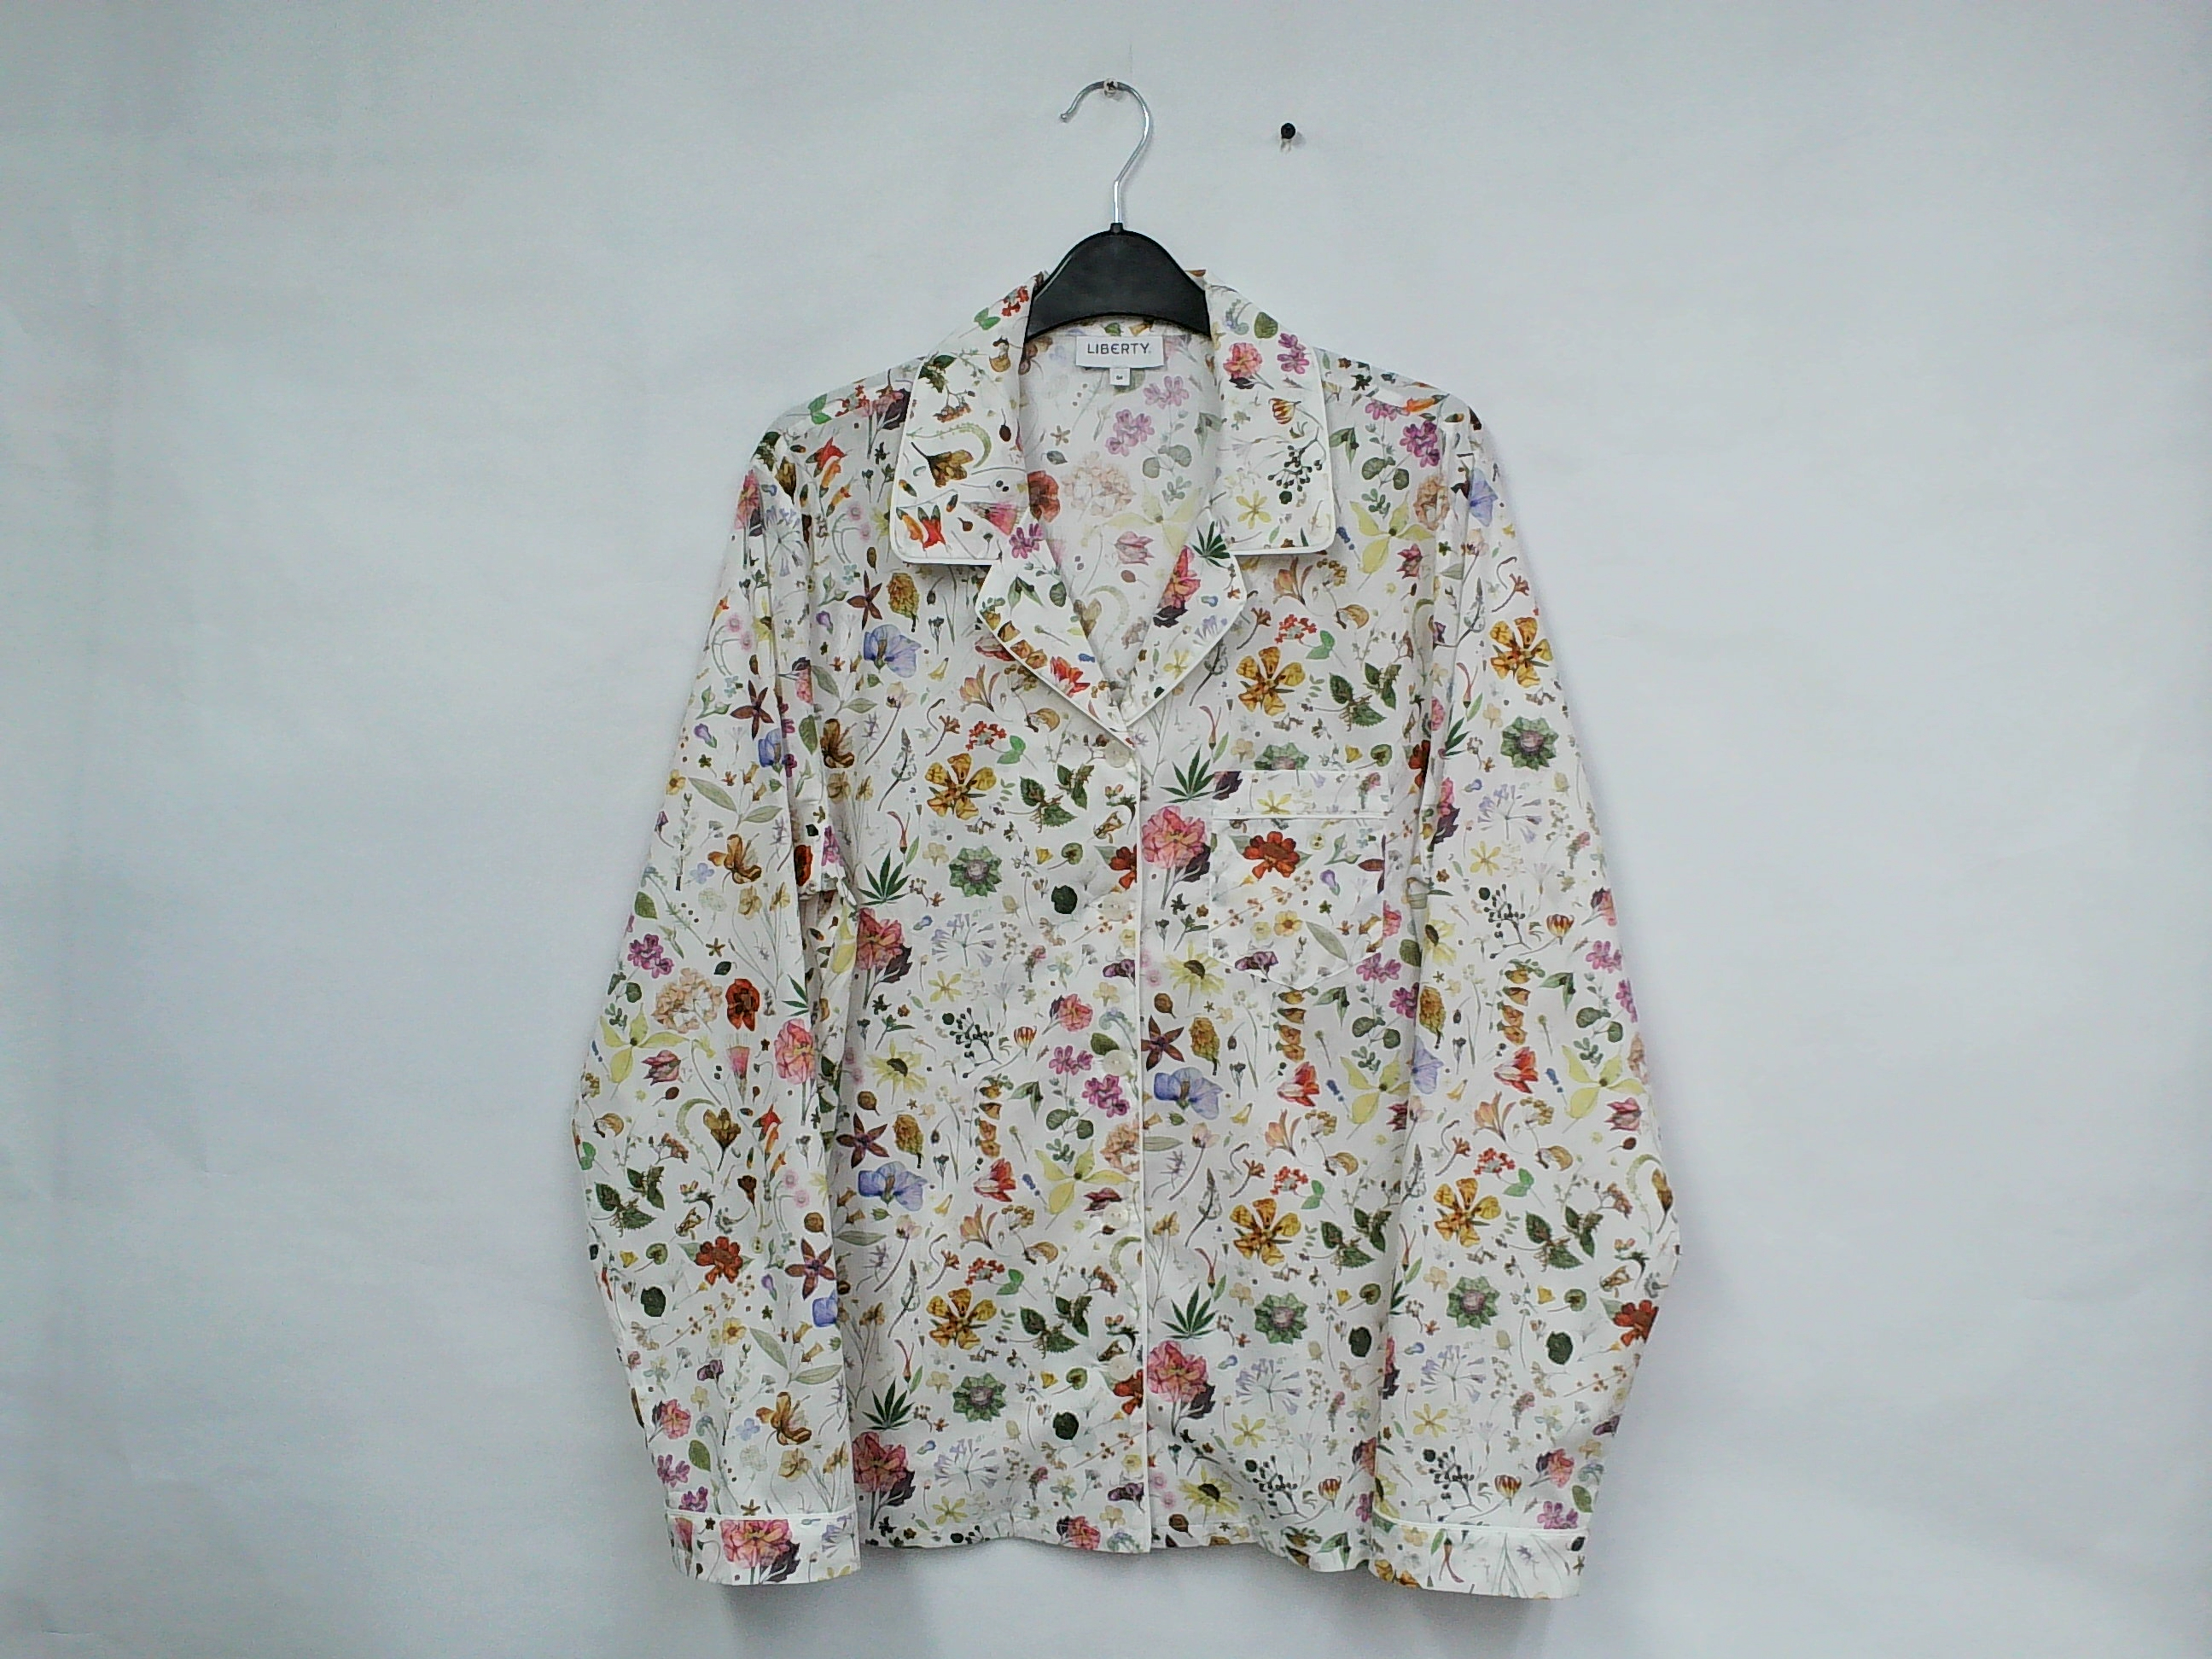deformation: (1205, 556, 1261, 633)
